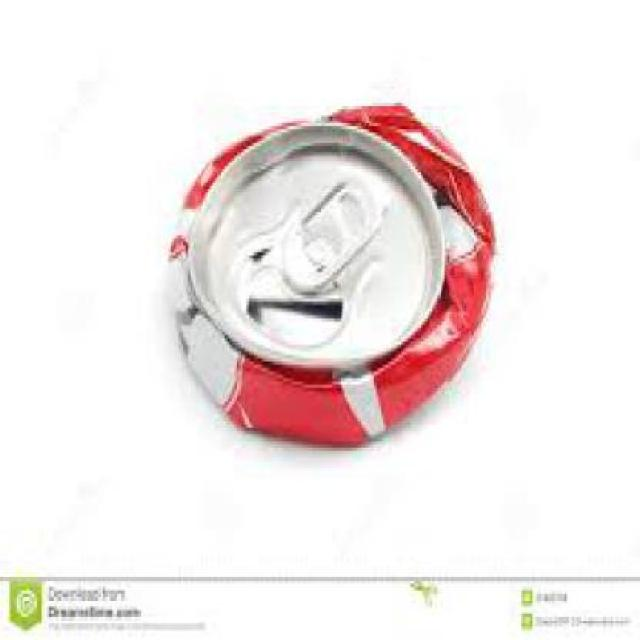METAL: (164, 92, 496, 448), (277, 172, 388, 282)
